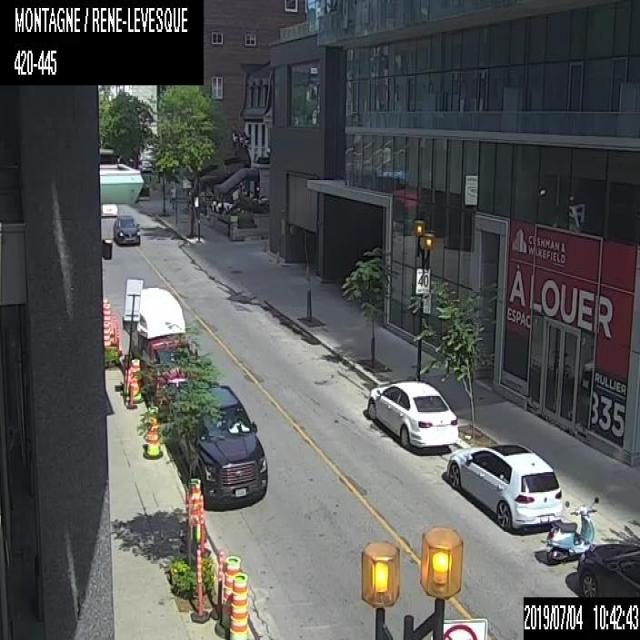construction: (217, 551, 241, 631), (188, 544, 210, 622), (183, 483, 204, 552), (232, 573, 247, 639), (143, 400, 161, 455), (122, 357, 141, 407), (104, 296, 116, 363)
vehicle: (168, 386, 268, 506), (450, 441, 564, 532), (126, 290, 205, 420), (364, 376, 459, 451), (574, 531, 639, 595), (544, 501, 597, 566), (114, 212, 141, 246)
